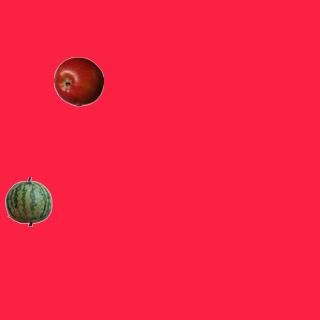Apple Braeburn: (53, 56, 103, 106)
Watermelon: (3, 176, 53, 226)
